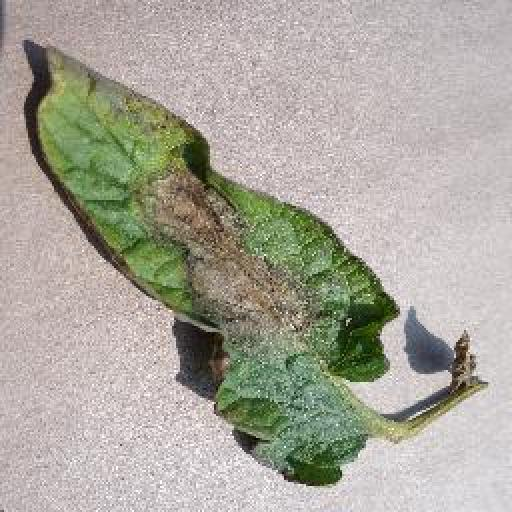Late Blight: (33, 45, 407, 492)
